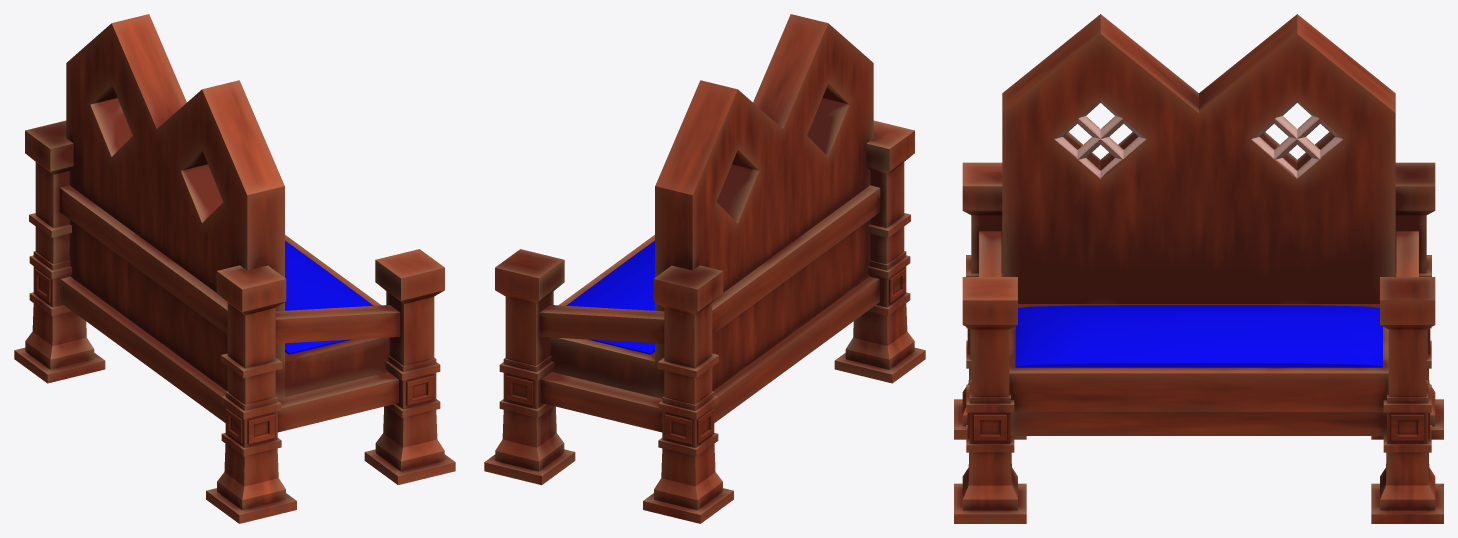
Rendered from sofa.fbx.
The picture shows the model from 3 angles, left to right: view 1: azimuth 30°, elevation 25°; view 2: azimuth 150°, elevation 25°; view 3: azimuth 270°, elevation 25°; orthographic projection. The views are drawn at different scales.
Visible parts, largest first — view 1: columne_v2.009, Cube.021, Cube.022; view 2: columne_v2.009, Cube.021, Cube.022; view 3: Cube.021, columne_v2.009, Cube.022, Plane.004.
Boxes of the visible parts, x1=… form: columne_v2.009: x1=14, y1=120, x2=455, y2=523; Cube.021: x1=66, y1=14, x2=389, y2=398; Cube.022: x1=285, y1=240, x2=373, y2=354; columne_v2.009: x1=484, y1=120, x2=925, y2=523; Cube.021: x1=550, y1=14, x2=873, y2=398; Cube.022: x1=566, y1=240, x2=654, y2=354; Cube.021: x1=1002, y1=14, x2=1395, y2=412; columne_v2.009: x1=954, y1=162, x2=1443, y2=523; Cube.022: x1=1016, y1=305, x2=1382, y2=367; Plane.004: x1=1055, y1=99, x2=1342, y2=178.
Bounding box in the file's own units: 448 × 749 × 808.
